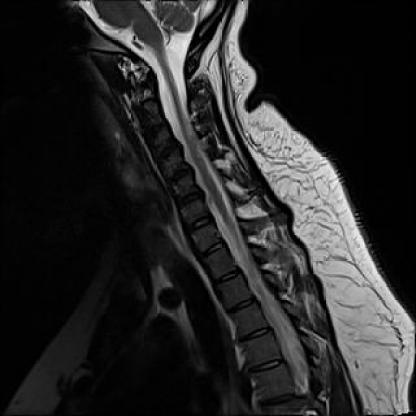Annular Disc Relaxationrotation: (166, 162, 196, 185), (172, 191, 207, 209)
